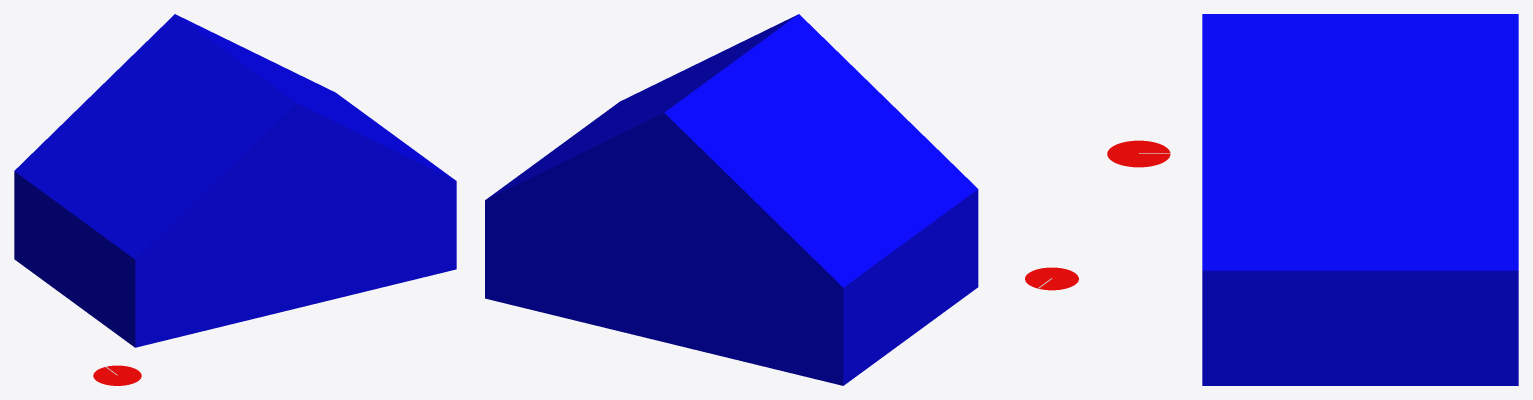
Rendered from result.glb.
3 views of the same model, side by side, from view 1: azimuth 30°, elevation 25°; view 2: azimuth 150°, elevation 25°; view 3: azimuth 270°, elevation 25° (orthographic). The views are drawn at different scales.
Visible parts, largest first — view 1: c8623287-3a25-43a0-92b1-df9b3847f0f4__undefined, 91a274d3-da03-4e85-9ff9-6c4bee079695__Circle; view 2: c8623287-3a25-43a0-92b1-df9b3847f0f4__undefined, 91a274d3-da03-4e85-9ff9-6c4bee079695__Circle; view 3: c8623287-3a25-43a0-92b1-df9b3847f0f4__undefined, 91a274d3-da03-4e85-9ff9-6c4bee079695__Circle.
Part boxes in pixels (x1=…): c8623287-3a25-43a0-92b1-df9b3847f0f4__undefined: x1=14, y1=14, x2=456, y2=347; 91a274d3-da03-4e85-9ff9-6c4bee079695__Circle: x1=93, y1=365, x2=141, y2=385; c8623287-3a25-43a0-92b1-df9b3847f0f4__undefined: x1=485, y1=14, x2=978, y2=385; 91a274d3-da03-4e85-9ff9-6c4bee079695__Circle: x1=1025, y1=267, x2=1078, y2=290; c8623287-3a25-43a0-92b1-df9b3847f0f4__undefined: x1=1202, y1=14, x2=1518, y2=385; 91a274d3-da03-4e85-9ff9-6c4bee079695__Circle: x1=1107, y1=140, x2=1170, y2=167.
Size of the model in its own units: 917 by 469 by 650.
